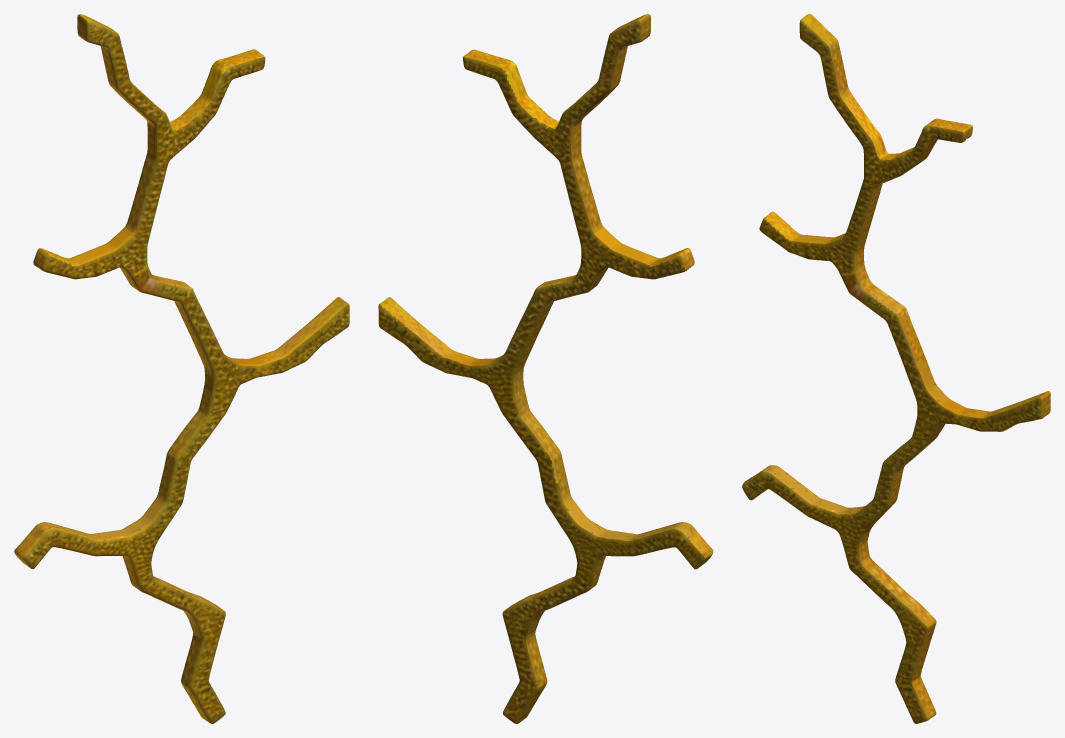
File: kintsugi_inlay2.glb
The picture shows the model from 3 angles, left to right: view 1: azimuth 30°, elevation 25°; view 2: azimuth 150°, elevation 25°; view 3: azimuth 330°, elevation 25°; orthographic projection. The views are drawn at different scales.
Visible parts, largest first — view 1: tmpj59ydgcm.ply; view 2: tmpj59ydgcm.ply; view 3: tmpj59ydgcm.ply.
Boxes of the visible parts, x1,y1,x2,y2 form: tmpj59ydgcm.ply: (14, 14, 349, 723); tmpj59ydgcm.ply: (378, 14, 713, 723); tmpj59ydgcm.ply: (742, 14, 1050, 723).
Size of the model in its own units: 0.9297 by 1.99 by 0.0589.
Materials: 1 (1 with a texture image).
